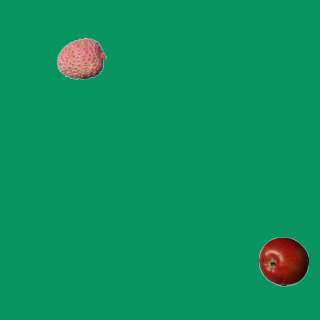Apple Braeburn: (258, 236, 308, 286)
Lychee: (56, 33, 106, 83)
